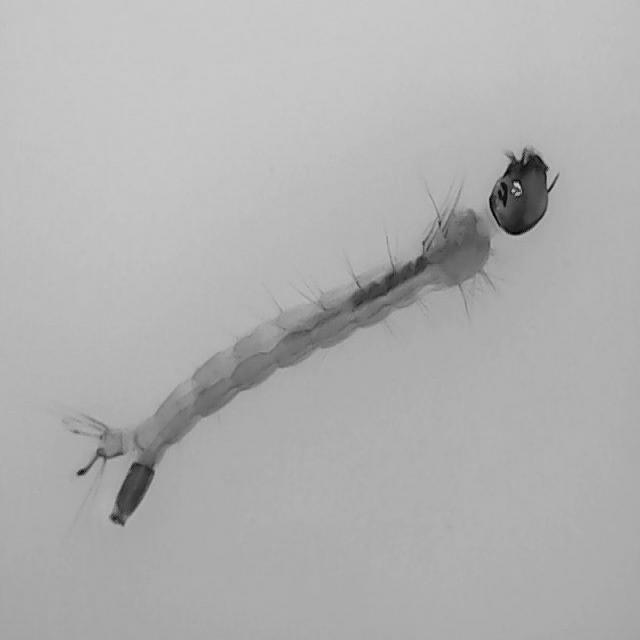larvas: (73, 150, 550, 522)
